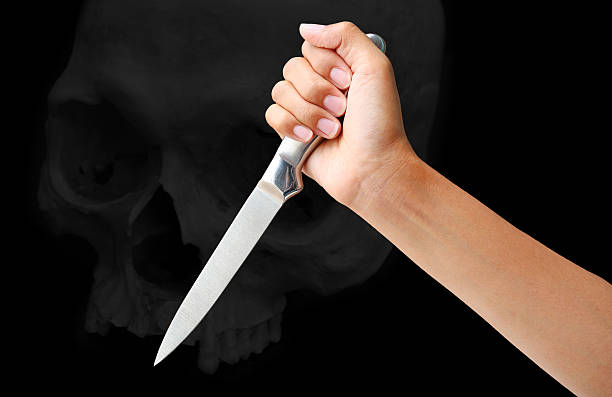knife: (151, 132, 326, 368)
